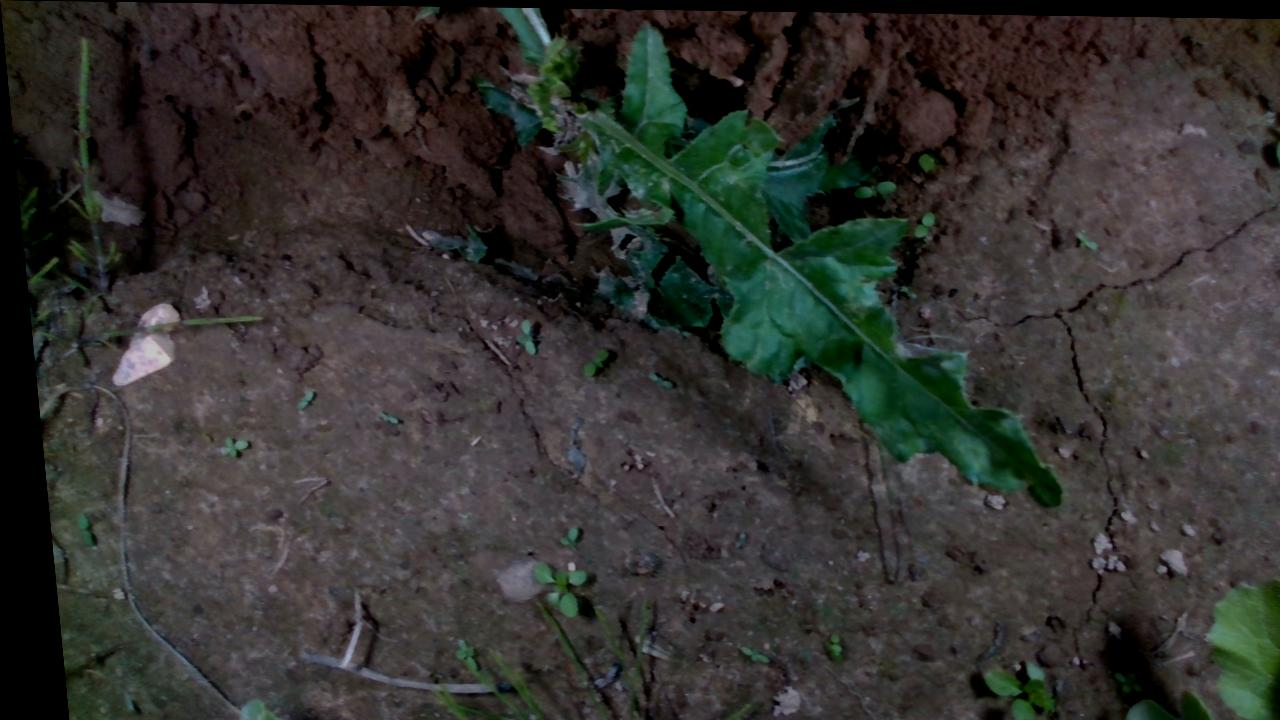weed: (572, 343, 604, 376), (503, 316, 529, 355), (1095, 665, 1131, 691), (208, 433, 242, 458), (64, 509, 84, 548), (724, 641, 757, 661), (1068, 225, 1095, 247), (287, 385, 310, 409), (546, 523, 570, 545), (813, 626, 829, 657), (638, 368, 666, 385)
